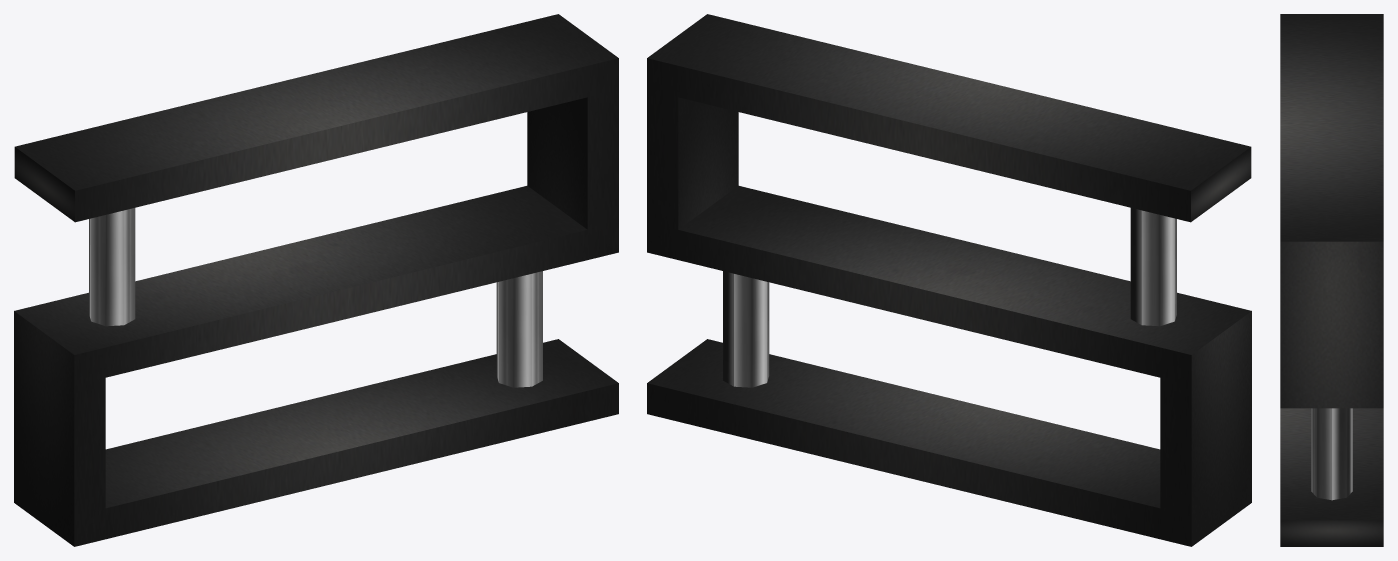
The model's file is BookshelfPrefab.fbx.
The picture shows the model from 3 angles, left to right: view 1: azimuth 30°, elevation 25°; view 2: azimuth 150°, elevation 25°; view 3: azimuth 270°, elevation 25°; orthographic projection. The views are drawn at different scales.
Visible parts, largest first — view 1: pCube1, pCylinder1, pCylinder2; view 2: pCube1, pCylinder1, pCylinder2; view 3: pCube1, pCylinder2.
Part boxes in pixels (x1=…): pCube1: x1=14, y1=14, x2=618, y2=546; pCylinder1: x1=89, y1=208, x2=135, y2=326; pCylinder2: x1=496, y1=271, x2=542, y2=387; pCube1: x1=647, y1=14, x2=1251, y2=546; pCylinder1: x1=1130, y1=208, x2=1176, y2=326; pCylinder2: x1=723, y1=271, x2=769, y2=387; pCube1: x1=1280, y1=14, x2=1383, y2=546; pCylinder2: x1=1311, y1=408, x2=1352, y2=500.
Bounding box in the file's own units: 5.21 × 3.25 × 1.
